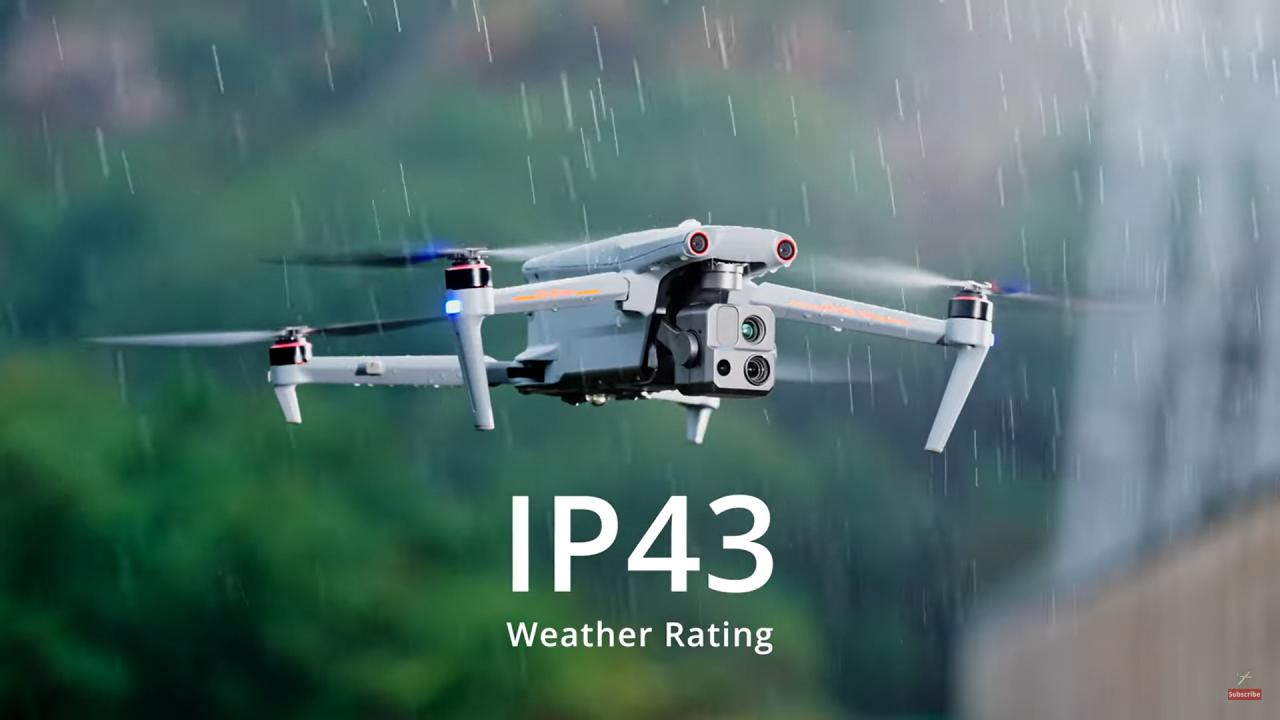Drone: (45, 190, 1182, 478)
